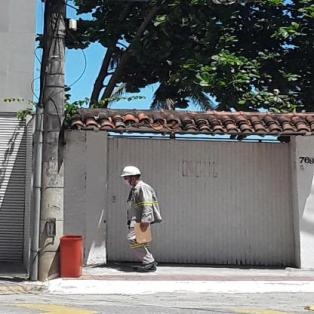Poste: (14, 0, 88, 281)
